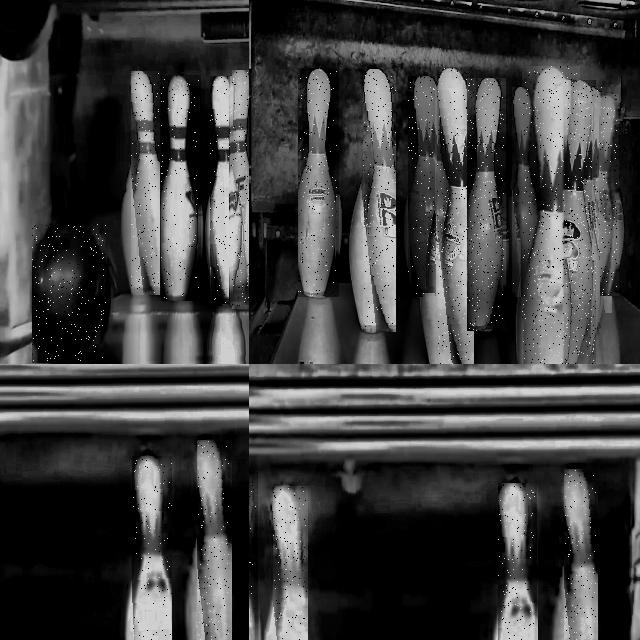bowling-ball: (32, 225, 106, 362)
bowling-pins: (523, 66, 578, 364), (438, 67, 473, 364), (469, 78, 504, 331), (299, 69, 337, 296), (363, 69, 396, 330), (566, 81, 596, 364), (162, 75, 199, 301), (132, 456, 172, 640), (210, 76, 242, 305), (131, 71, 159, 293), (198, 441, 229, 640), (499, 484, 536, 640), (409, 77, 435, 294), (565, 470, 596, 640), (273, 487, 307, 640), (513, 87, 536, 296), (232, 71, 249, 307), (600, 94, 617, 296), (592, 88, 610, 249)
